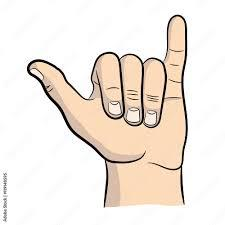subscribe-to-tem: (26, 17, 192, 173)
